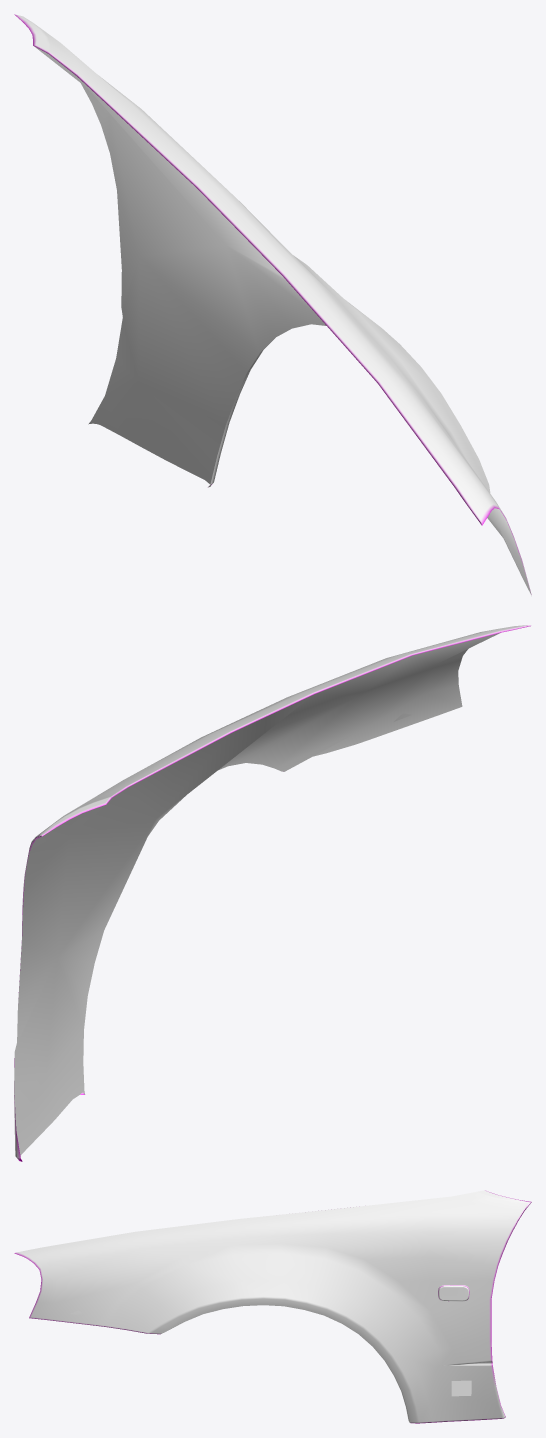
Rendered from Car_Nissan_SkylineGTRVspecR34_1999_FenderFL_SetB.fbx.
The picture shows the model from 3 angles, top to bottom: view 1: azimuth 30°, elevation 25°; view 2: azimuth 150°, elevation 25°; view 3: azimuth 270°, elevation 25°; orthographic projection. The views are drawn at different scales.
Parts seen in each view (by area): view 1: FenderFL 6; view 2: FenderFL 6; view 3: FenderFL 6.
Part boxes in pixels (x1,y1,x2,y2): FenderFL 6: [14, 14, 531, 595]; FenderFL 6: [14, 625, 530, 1161]; FenderFL 6: [14, 1190, 531, 1423].
Size of the model in its own units: 0.2093 by 0.5704 by 1.29.
